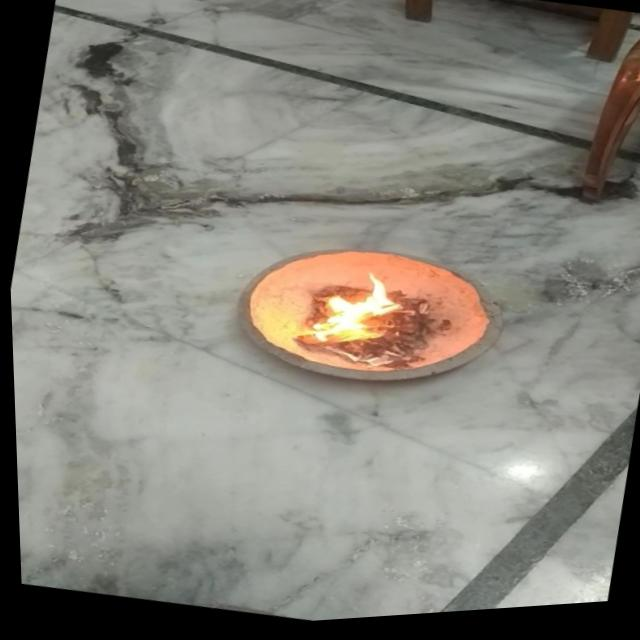fire: (289, 259, 420, 368)
